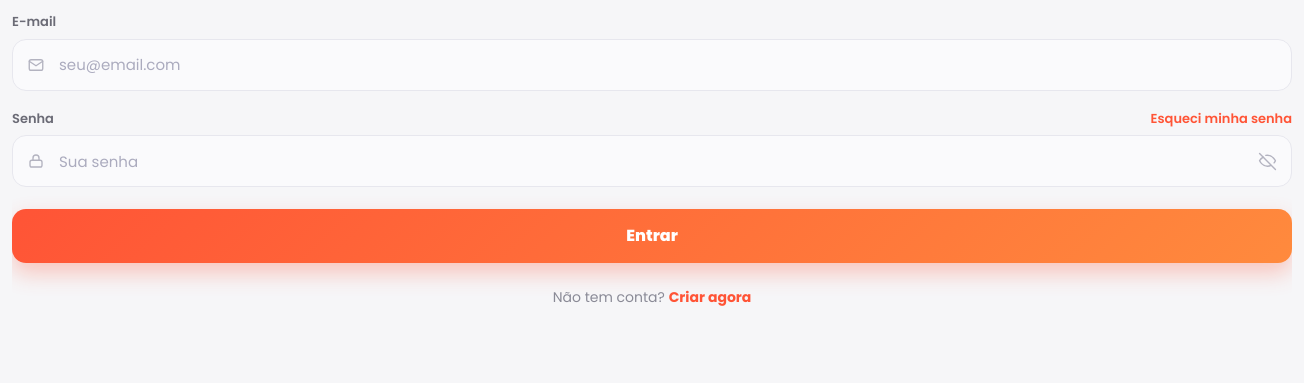
LoginForm › valida campos vazios antes de enviar
Click the button "Entrar" at [652, 236], box [12, 209, 1292, 263]
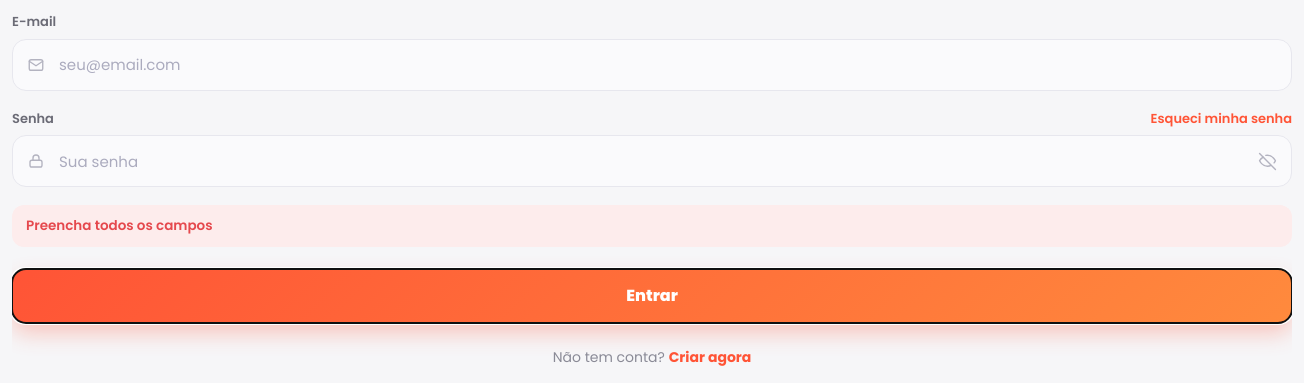
Now the text "Preencha todos os campos" is shown, box [12, 205, 1292, 247]
